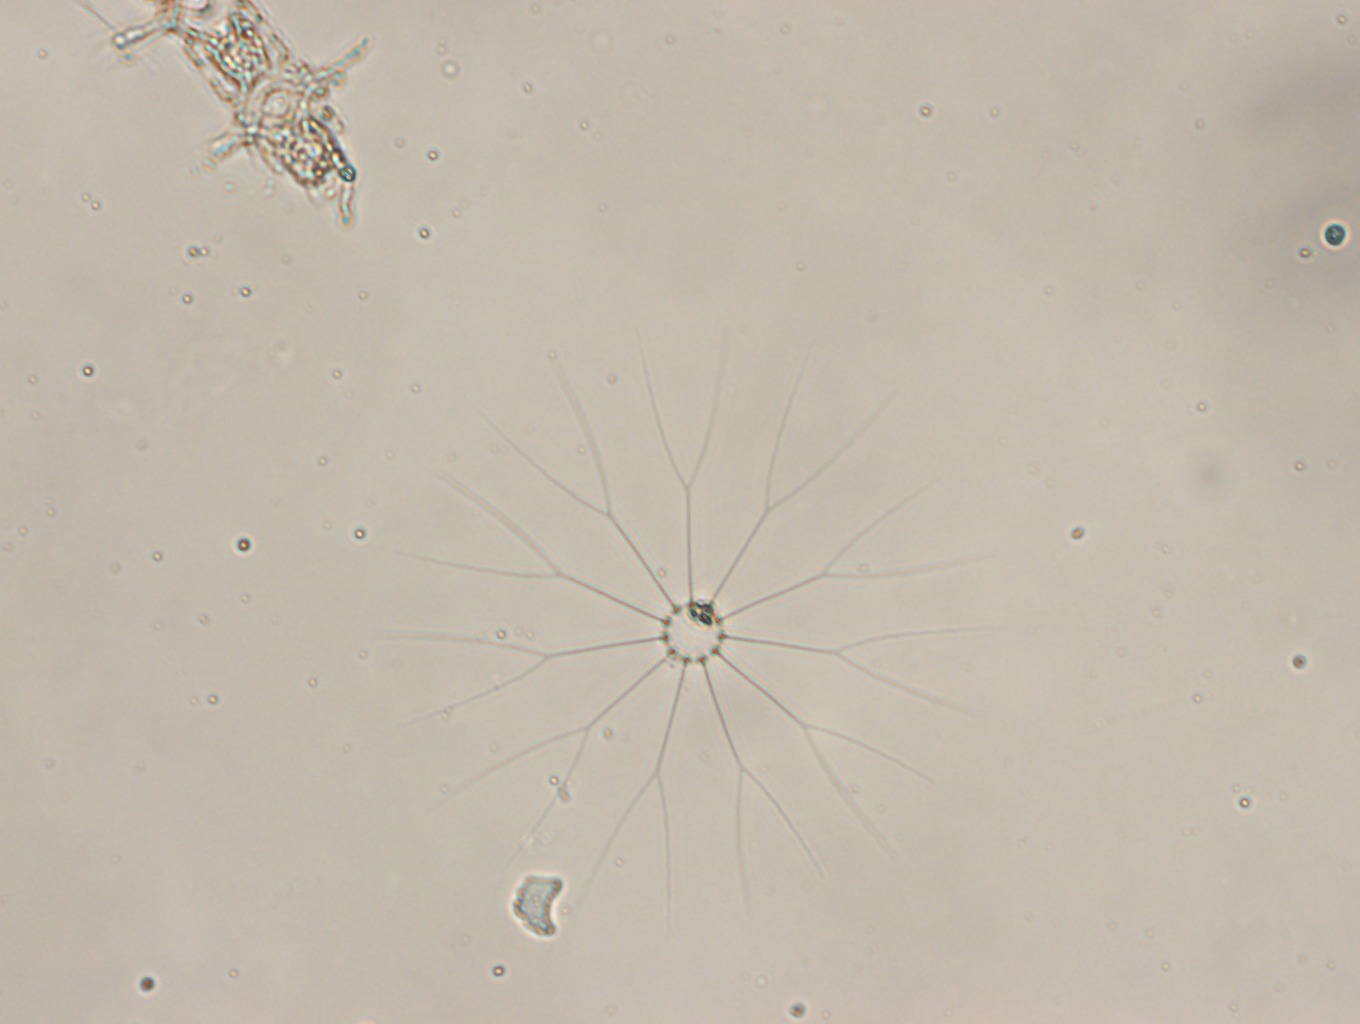bacteriastrum: (386, 325, 1022, 916)
